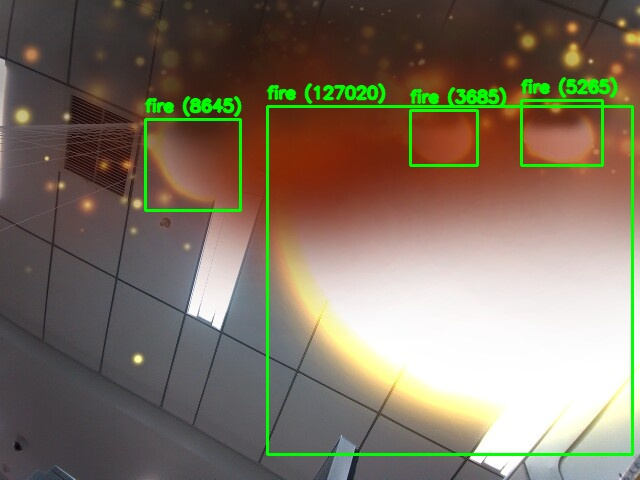fire: (267, 106, 632, 454), (145, 119, 240, 210), (521, 100, 602, 165), (410, 110, 477, 165)
